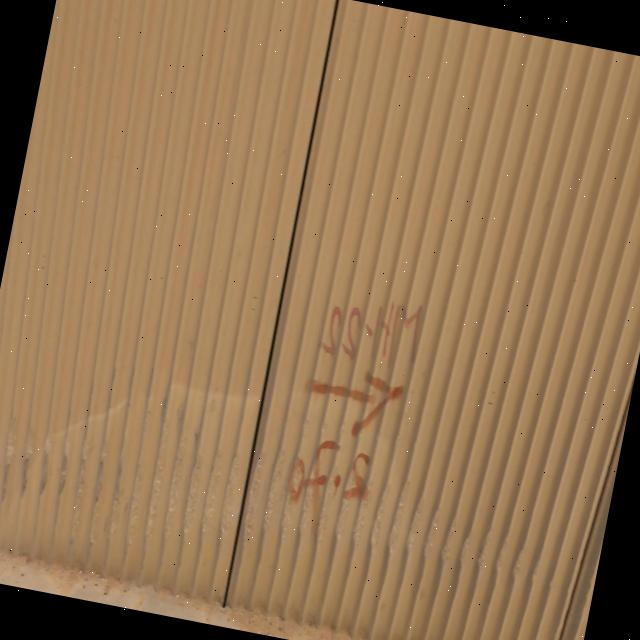Graffiti: (280, 286, 429, 546)
